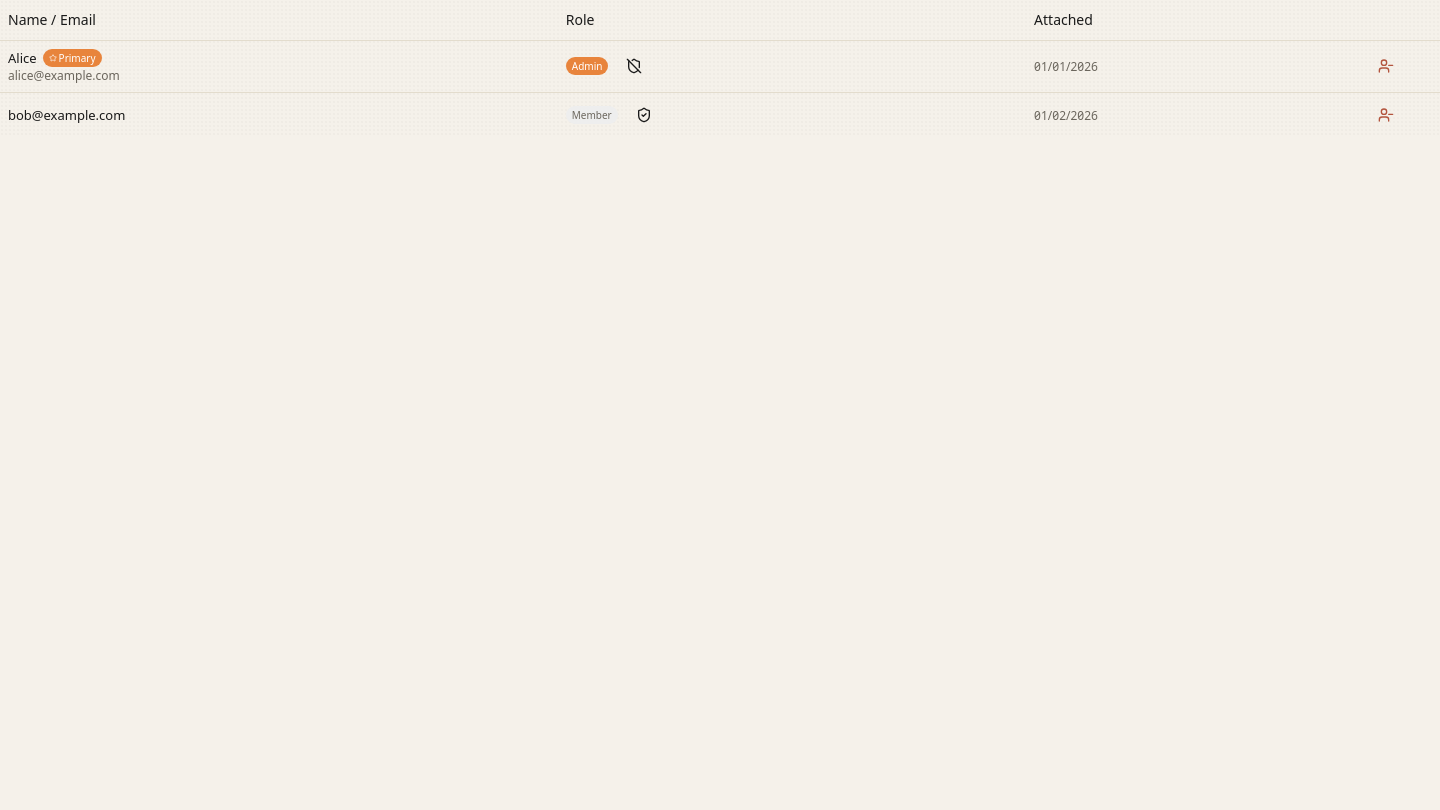
Test: AttachedUsersTable — boot confirm › clicking boot icon opens confirm dialog
Click the button titled "Boot user" in the row of "Primary" at (1386, 66), box x1=1368 y1=52 x2=1404 y2=80
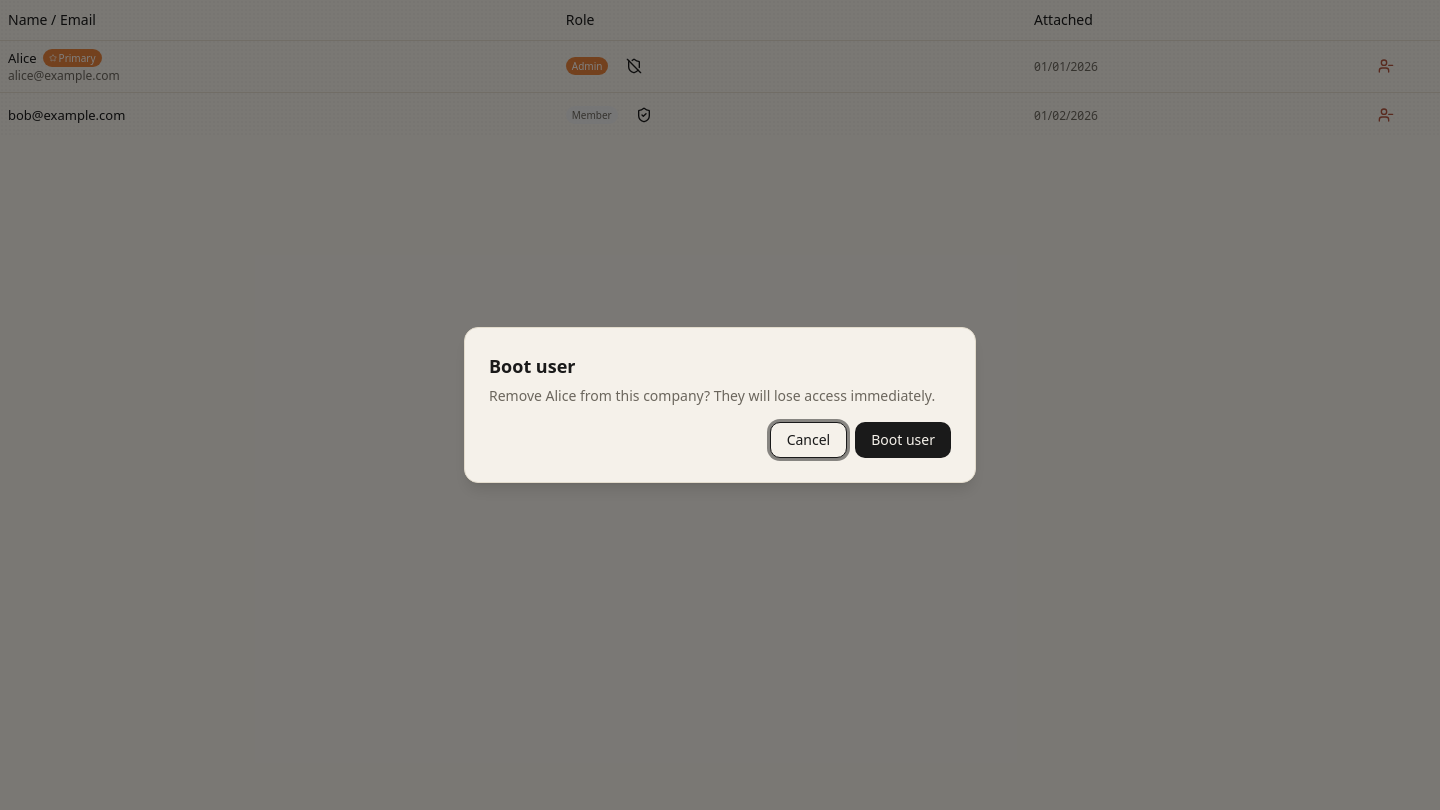
Expected: the dialog is shown, x1=464 y1=327 x2=976 y2=483
